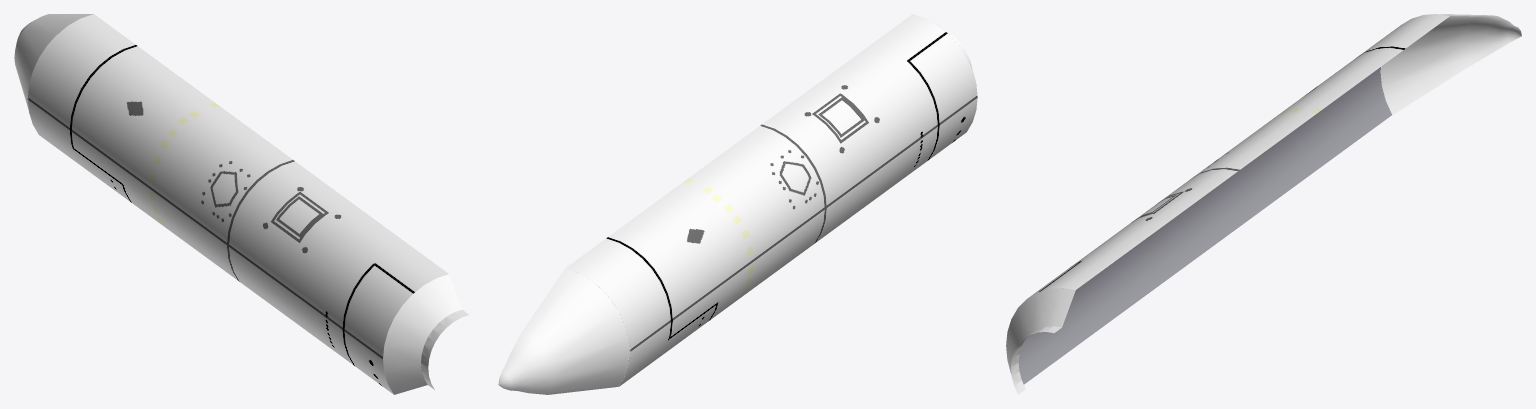
The model's file is fairing615b.obj.
3 views of the same model, side by side, from view 1: azimuth 30°, elevation 25°; view 2: azimuth 150°, elevation 25°; view 3: azimuth 330°, elevation 25° (orthographic). The views are drawn at different scales.
Parts seen in each view (by area): view 1: group1; view 2: group1; view 3: group0, group1.
Part boxes in pixels (x1,y1,x2,y2): group1: [14, 14, 468, 394]; group1: [498, 14, 977, 394]; group0: [1011, 16, 1521, 394]; group1: [1006, 14, 1497, 386].
Bounding box in the file's own units: 2.51 × 3.89 × 29.07.
Materials: 2 (2 with a texture image).
